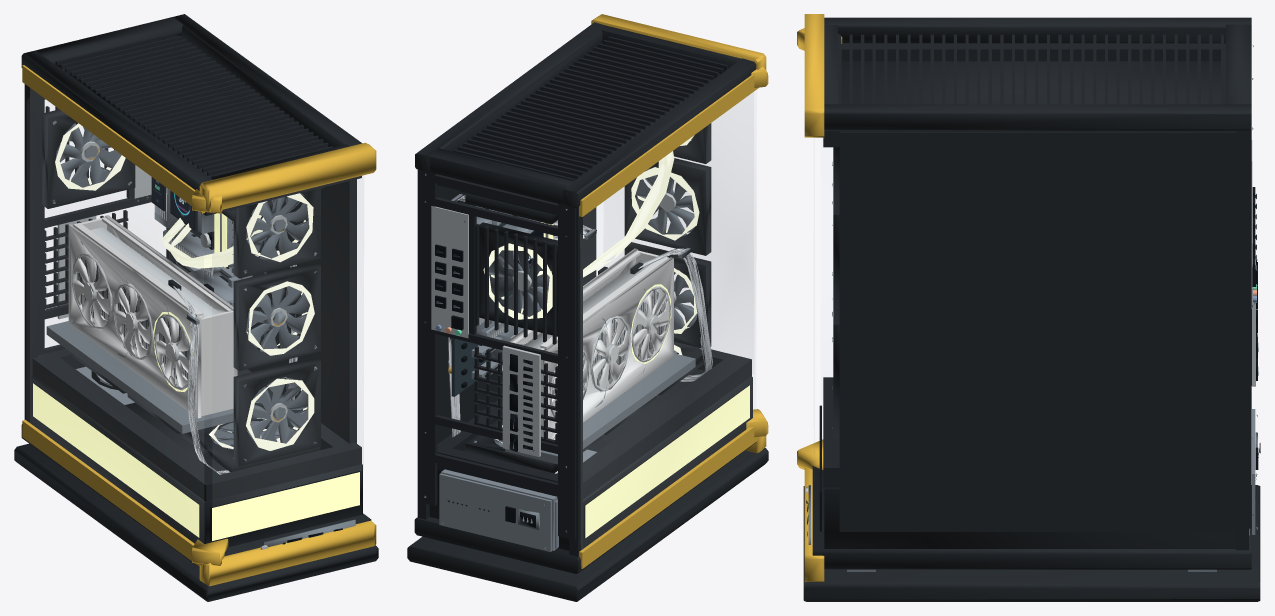
The model's file is display87-gold.glb.
3 views of the same model, side by side, from view 1: azimuth 30°, elevation 25°; view 2: azimuth 150°, elevation 25°; view 3: azimuth 270°, elevation 25° (orthographic). The views are drawn at different scales.
Parts seen in each view (by area): view 1: s83-surface-c68be824-7ced-4737-8df1-816e650b5bf5, s83-surface-f81b631f-5621-480c-b53b-a9ed2978ec8d, s83-surface-f2bc39d1-3dea-4d5d-bf3e-d61578aa67d5, s83-surface-63fa4c72-a32b-48b1-9a24-3471a6f8a7d1; view 2: s83-surface-c68be824-7ced-4737-8df1-816e650b5bf5, s83-surface-16aaa72e-1187-4b3c-8bfd-228a585db3b1, s83-surface-f81b631f-5621-480c-b53b-a9ed2978ec8d, s83-surface-f2bc39d1-3dea-4d5d-bf3e-d61578aa67d5; view 3: s83-surface-c68be824-7ced-4737-8df1-816e650b5bf5.
Boxes of the visible parts, left/top/right/bottom form: s83-surface-c68be824-7ced-4737-8df1-816e650b5bf5: left=14, top=14, right=378, bottom=601; s83-surface-f81b631f-5621-480c-b53b-a9ed2978ec8d: left=33, top=213, right=359, bottom=540; s83-surface-f2bc39d1-3dea-4d5d-bf3e-d61578aa67d5: left=55, top=123, right=314, bottom=450; s83-surface-63fa4c72-a32b-48b1-9a24-3471a6f8a7d1: left=171, top=191, right=193, bottom=228; s83-surface-c68be824-7ced-4737-8df1-816e650b5bf5: left=407, top=14, right=768, bottom=601; s83-surface-16aaa72e-1187-4b3c-8bfd-228a585db3b1: left=603, top=92, right=754, bottom=374; s83-surface-f81b631f-5621-480c-b53b-a9ed2978ec8d: left=541, top=222, right=749, bottom=537; s83-surface-f2bc39d1-3dea-4d5d-bf3e-d61578aa67d5: left=483, top=135, right=699, bottom=443; s83-surface-c68be824-7ced-4737-8df1-816e650b5bf5: left=797, top=14, right=1260, bottom=601.
Bounding box in the file's own units: 1.37 × 2.99 × 2.56.
Materials: 6 (5 with a texture image).
